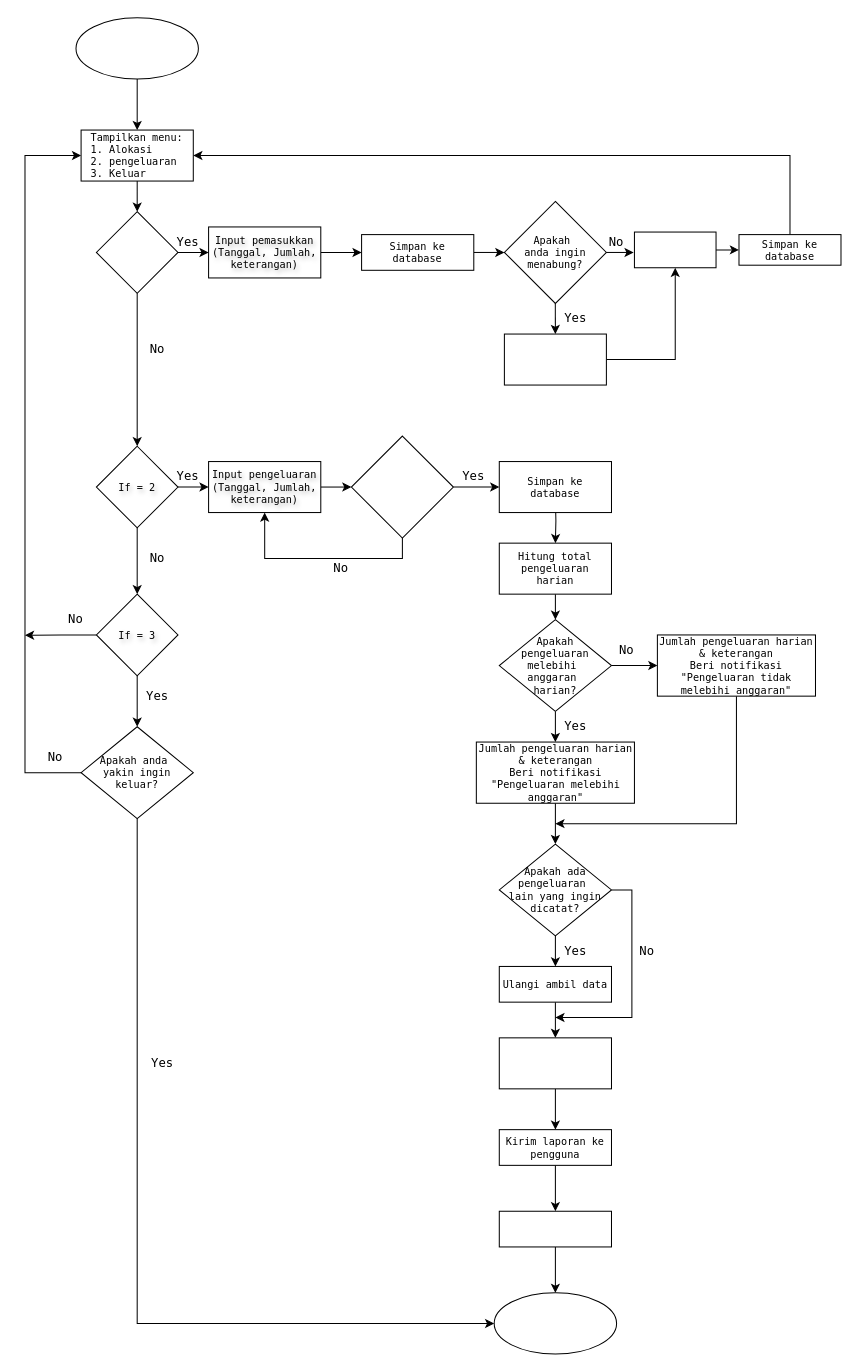
Some shapes in this 859 by 1372 pixel diagram are drawn without their labels. The centre of each missing label's shape, as x and y in pixels:
Apakah data lengkap?: the point at 401,486
Buat laporan & analisis (Total, Kategori, dan Sisa Anggaran): the point at 554,1063
Hitung anggaran per hari: the point at 674,249
If = 1: the point at 136,252
Input jumlah yang ingin ditabung: the point at 554,359
Mulai: the point at 136,48
Selesai: the point at 555,1323
Setel pengingat harian untuk pencatatan: the point at 554,1228
